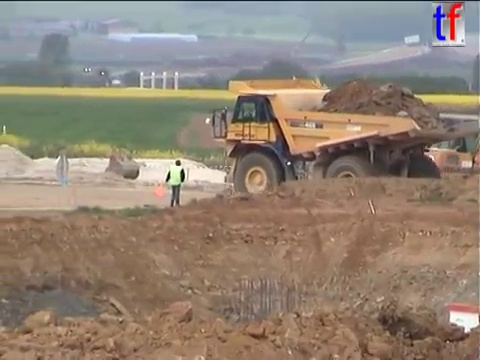excavator: (399, 108, 480, 194)
truck: (203, 75, 480, 210)
worker: (162, 158, 188, 209)
